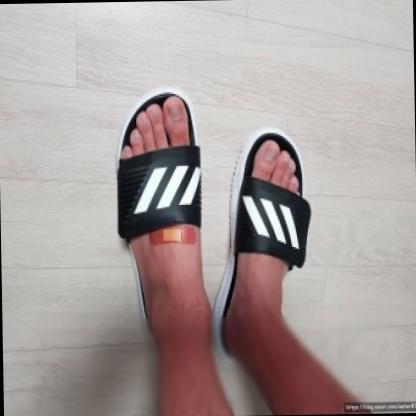no_safety-shoe: (105, 75, 207, 369), (224, 116, 321, 380)
